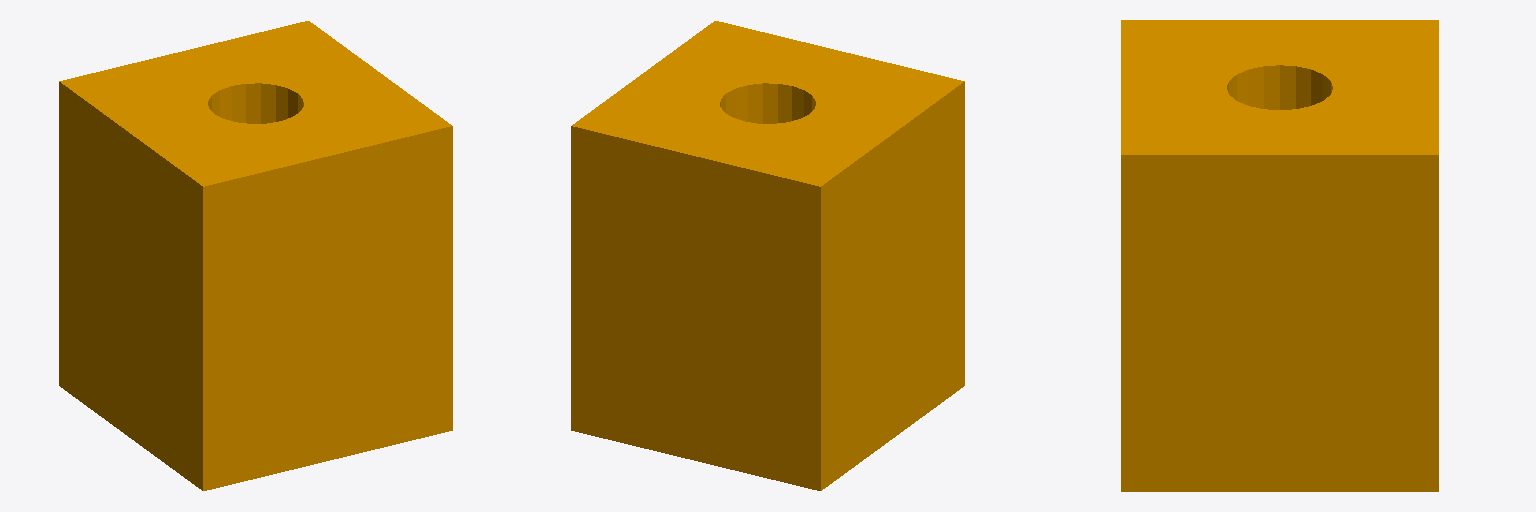
URDF robot description (leg):
<?xml version="1.0"?>
<robot name="leg">

<link name="base_link">

  <collision>
    <origin xyz="0 0 0" rpy="0 0 0"/>
    <geometry>
      <mesh filename="package://ur_description/meshes/ur3/collision/leg.dae" scale="0.01 0.01 0.01"/>
    </geometry>
  </collision>

  <visual>
    <origin xyz="0 0 0" rpy="0 0 0"/>
    <geometry>
      <mesh filename="package://ur_description/meshes/ur3/visual/leg.dae" scale="0.01 0.01 0.01"/>
    </geometry>
  </visual>

  <inertial>
   <origin xyz="0 0 0" rpy="0 0 0"/>
   <mass value="0.1" />
   <inertia
      ixx="0.00000379215" ixy="0.0"  ixz="0.0"
      iyy="0.00000379215" iyz="0.0"  izz="0.00000379215" />
  </inertial>

</link>

<gazebo reference="base_link">
  <mu1>100</mu1>
  <mu2>100</mu2>
  <kp>2147483647</kp>
  <kd>1</kd>
  <maxVel>0</maxVel>
  <minDepth>0.001</minDepth>
  <material>Gazebo/Red</material>
</gazebo>

</robot>

--- What the picture shows (computed from the rendered views, not written in the file) ---
The picture shows the robot from 3 angles, left to right: view 1: azimuth 30°, elevation 25°; view 2: azimuth 150°, elevation 25°; view 3: azimuth 270°, elevation 25°; orthographic projection.
Robot: leg — 1 links, 0 joints (none); root link base_link; default pose: all joints at 0.
Visible links, largest first — view 1: base_link; view 2: base_link; view 3: base_link.
Boxes of the visible links, left/top/right/bottom form: base_link: left=59, top=21, right=452, bottom=490; base_link: left=571, top=21, right=964, bottom=490; base_link: left=1121, top=20, right=1438, bottom=491.
Bounding box of the posed robot: 0.03 × 0.03 × 0.035 m (x, y, z).
1 mesh visuals loaded from 1 distinct referenced files (1 Collada DAE).
